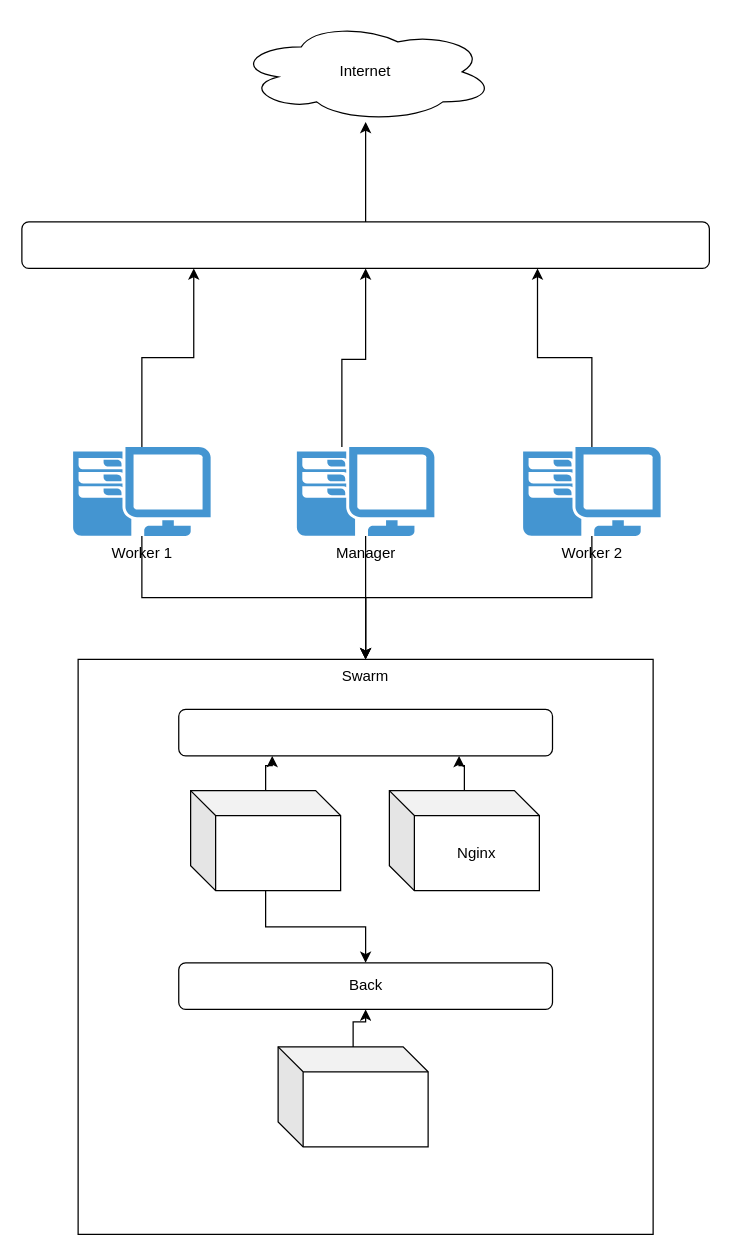
Image size: 731x1256. Some labels were removed from this diagram. The centre of each missing label's shape, as x and y in pixels:
"Front" belongs at [365,732].
"MariaDB" belongs at [352,1096].
"Network" belongs at [365,244].
"Wordpress" belongs at [265,840].
